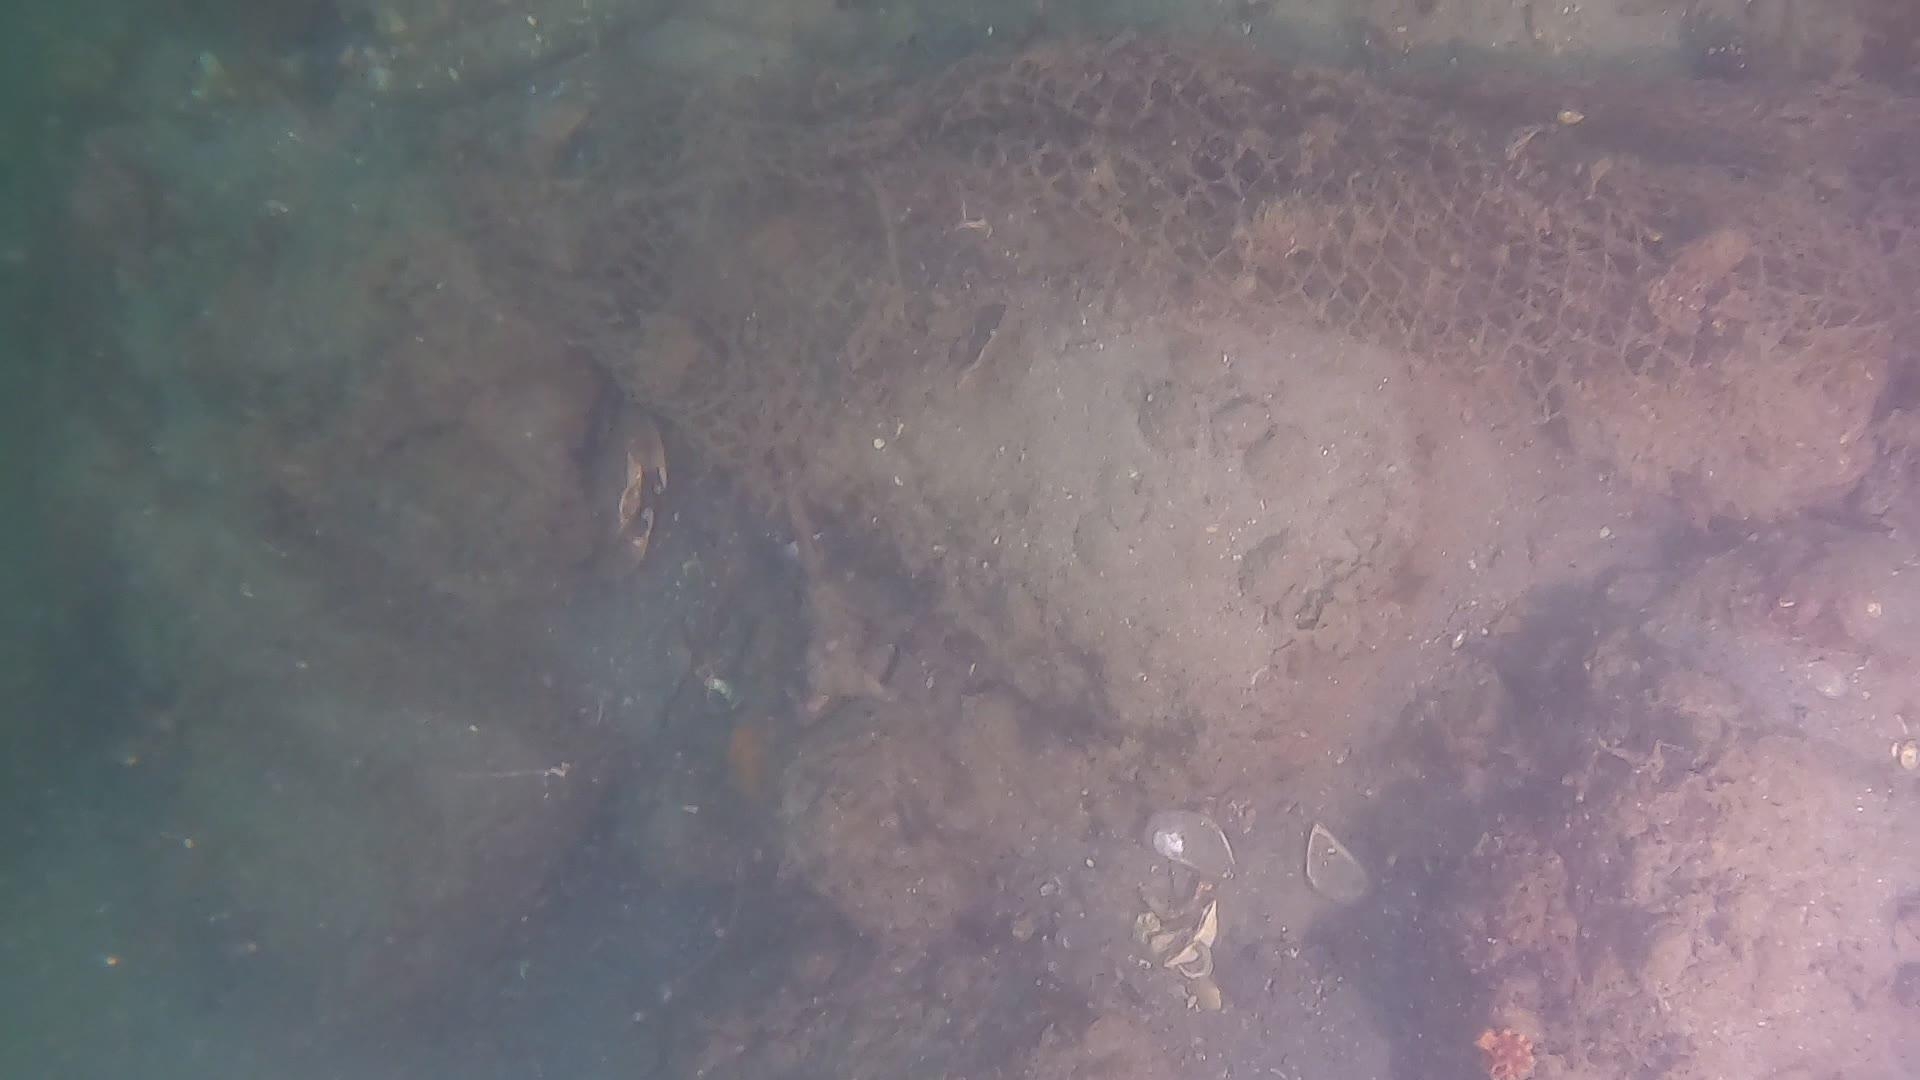fish net: (578, 40, 1920, 473)
